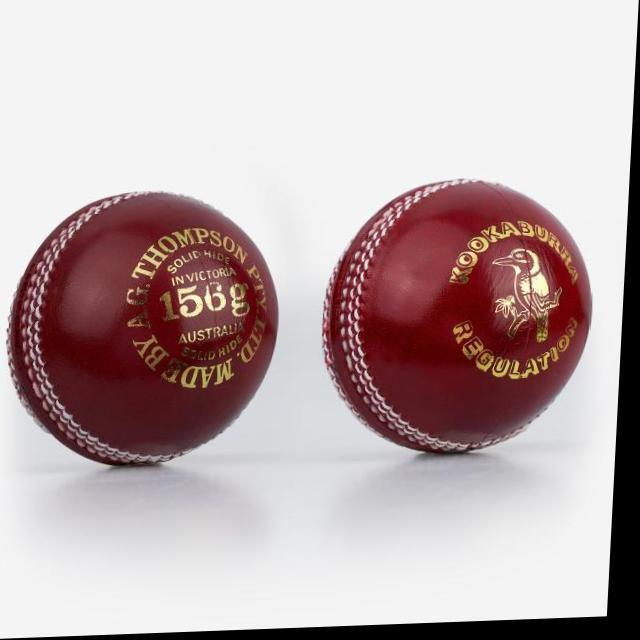cricket ball: (9, 193, 282, 467), (327, 182, 595, 457)
